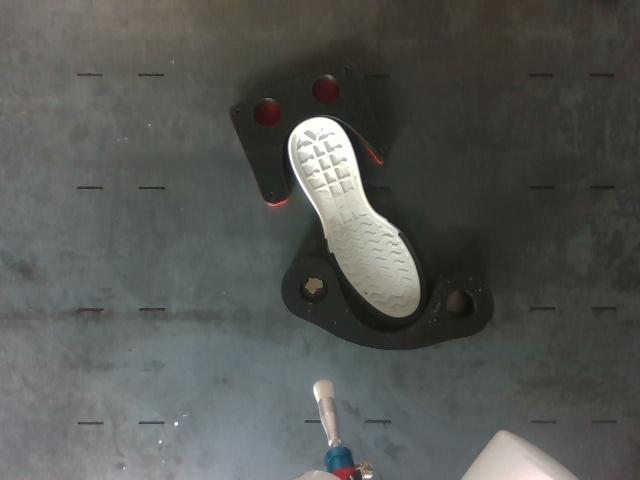shoes: (290, 118, 425, 322)
